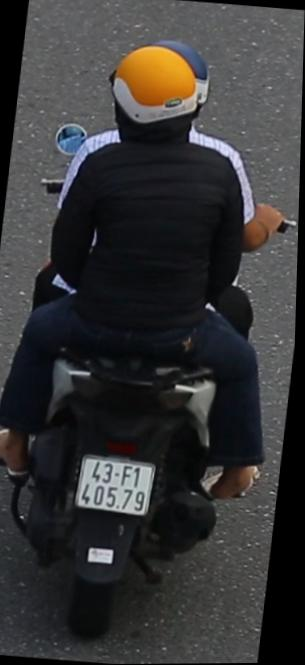LP: (73, 450, 163, 524)
helmet: (100, 34, 219, 156)
